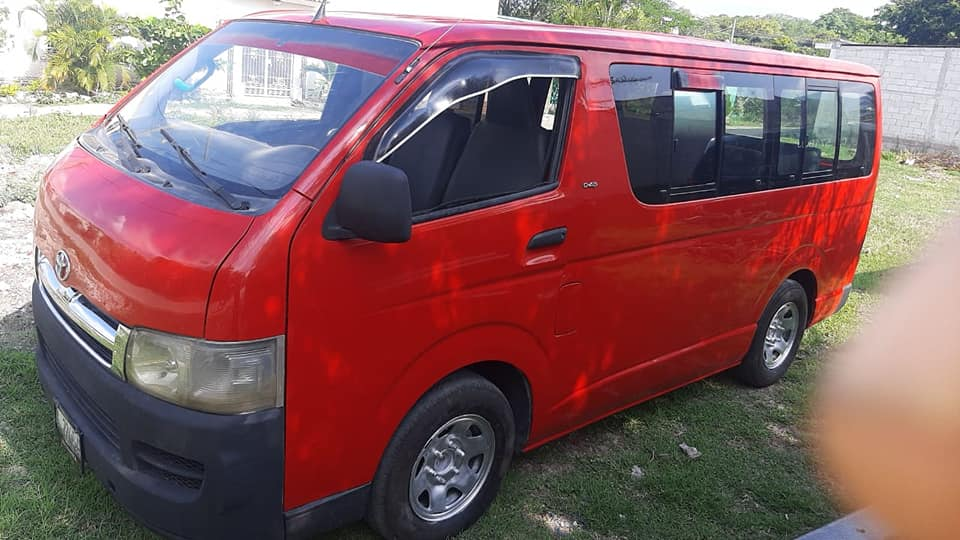bus: (34, 6, 880, 522)
